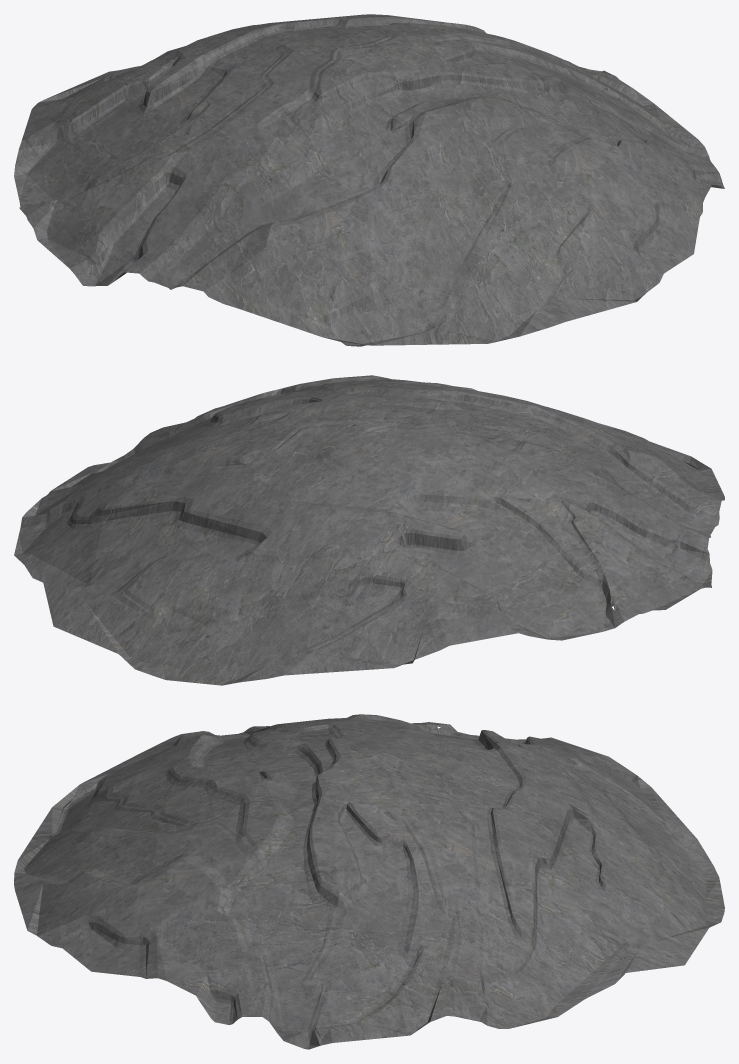
Rendered from CaveCeiling.fbx.
3 renders of one model, top to bottom at view 1: azimuth 30°, elevation 25°; view 2: azimuth 150°, elevation 25°; view 3: azimuth 270°, elevation 25°, orthographic. The views are drawn at different scales.
Parts seen in each view (by area): view 1: SM_ENV_NATURE_Cave_Ceiling_BigRoom.mo; view 2: SM_ENV_NATURE_Cave_Ceiling_BigRoom.mo; view 3: SM_ENV_NATURE_Cave_Ceiling_BigRoom.mo.
Boxes of the visible parts, x1=… form: SM_ENV_NATURE_Cave_Ceiling_BigRoom.mo: x1=14, y1=14, x2=724, y2=346; SM_ENV_NATURE_Cave_Ceiling_BigRoom.mo: x1=14, y1=375, x2=724, y2=685; SM_ENV_NATURE_Cave_Ceiling_BigRoom.mo: x1=14, y1=714, x2=724, y2=1049.
Bounding box in the file's own units: 5258 × 1220 × 5434.
Materials: 1 (1 with a texture image).
